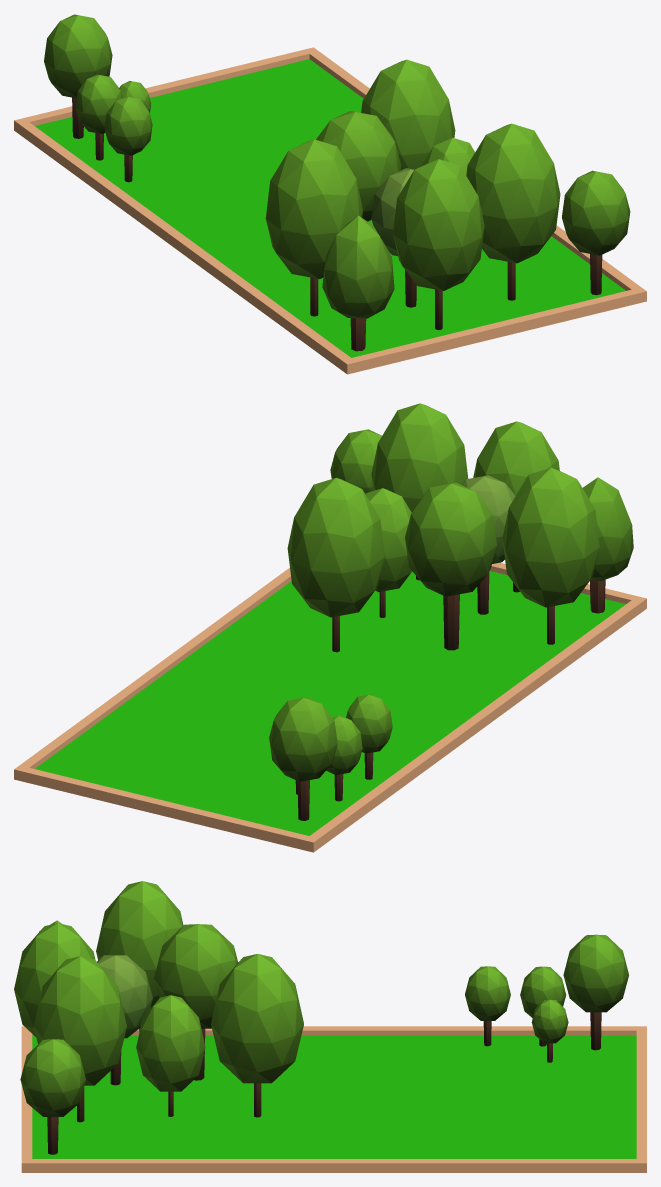
File: block1.fbx
3 views of the same model, one above another, from view 1: azimuth 30°, elevation 25°; view 2: azimuth 150°, elevation 25°; view 3: azimuth 270°, elevation 25° (orthographic). The views are drawn at different scales.
Parts seen in each view (by area): view 1: Cube.553; view 2: Cube.553; view 3: Cube.553.
Boxes of the visible parts, box(x1,y1,x2,y2) form: Cube.553: box(14, 14, 646, 374); Cube.553: box(14, 403, 646, 852); Cube.553: box(14, 881, 646, 1172).
Size of the model in its own units: 29.24 by 17.57 by 55.32.
Materials: 1 (1 with a texture image).
